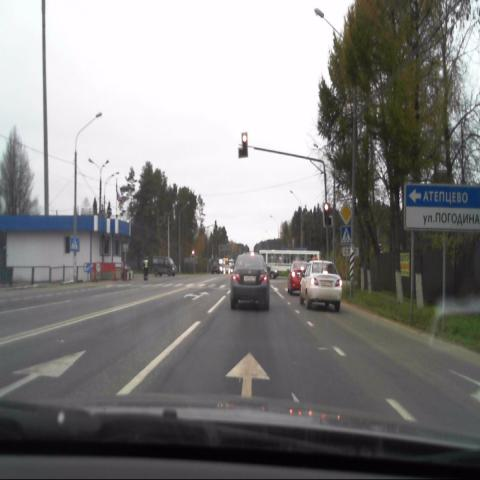2_1: (339, 203, 351, 224)
5_19_1: (342, 228, 352, 244), (70, 237, 79, 252)
